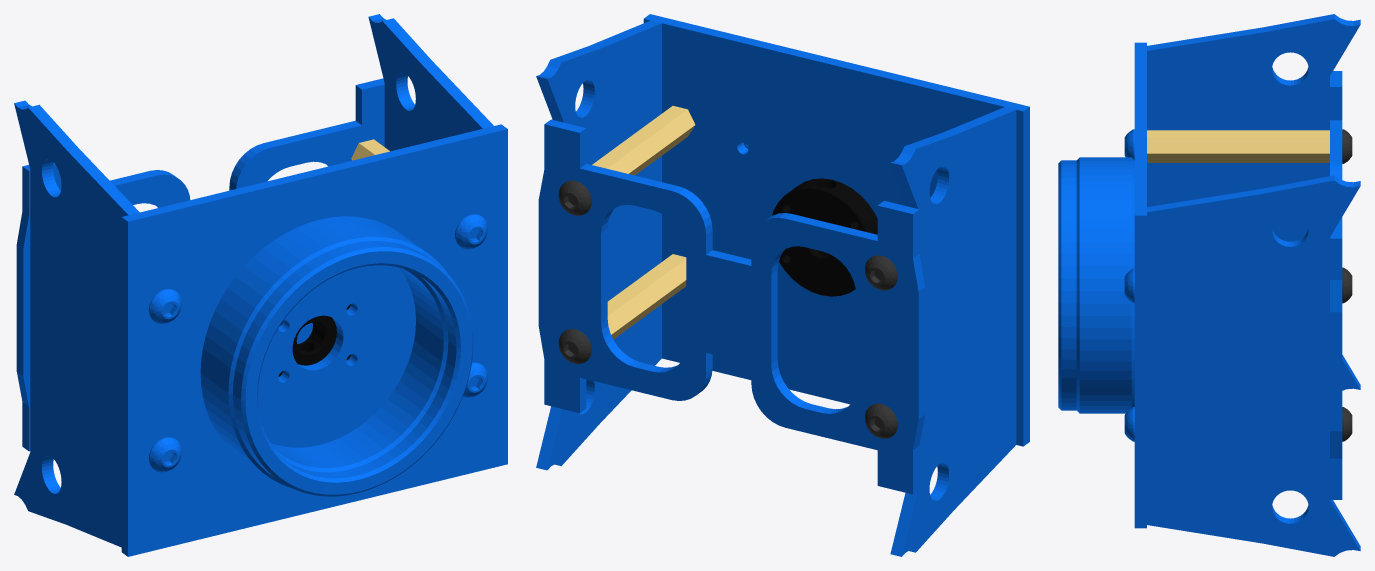
The model's file is gripper_frame_Mesh.obj.
The picture shows the model from 3 angles, left to right: view 1: azimuth 30°, elevation 25°; view 2: azimuth 150°, elevation 25°; view 3: azimuth 270°, elevation 25°; orthographic projection. The views are drawn at different scales.
Bounding box in the file's own units: 0.067 × 0.068 × 0.0495.
